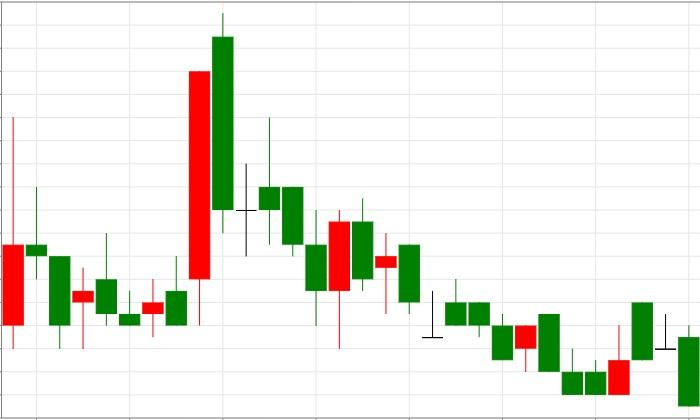bullish_engulfing_rise: (212, 13, 350, 349)
